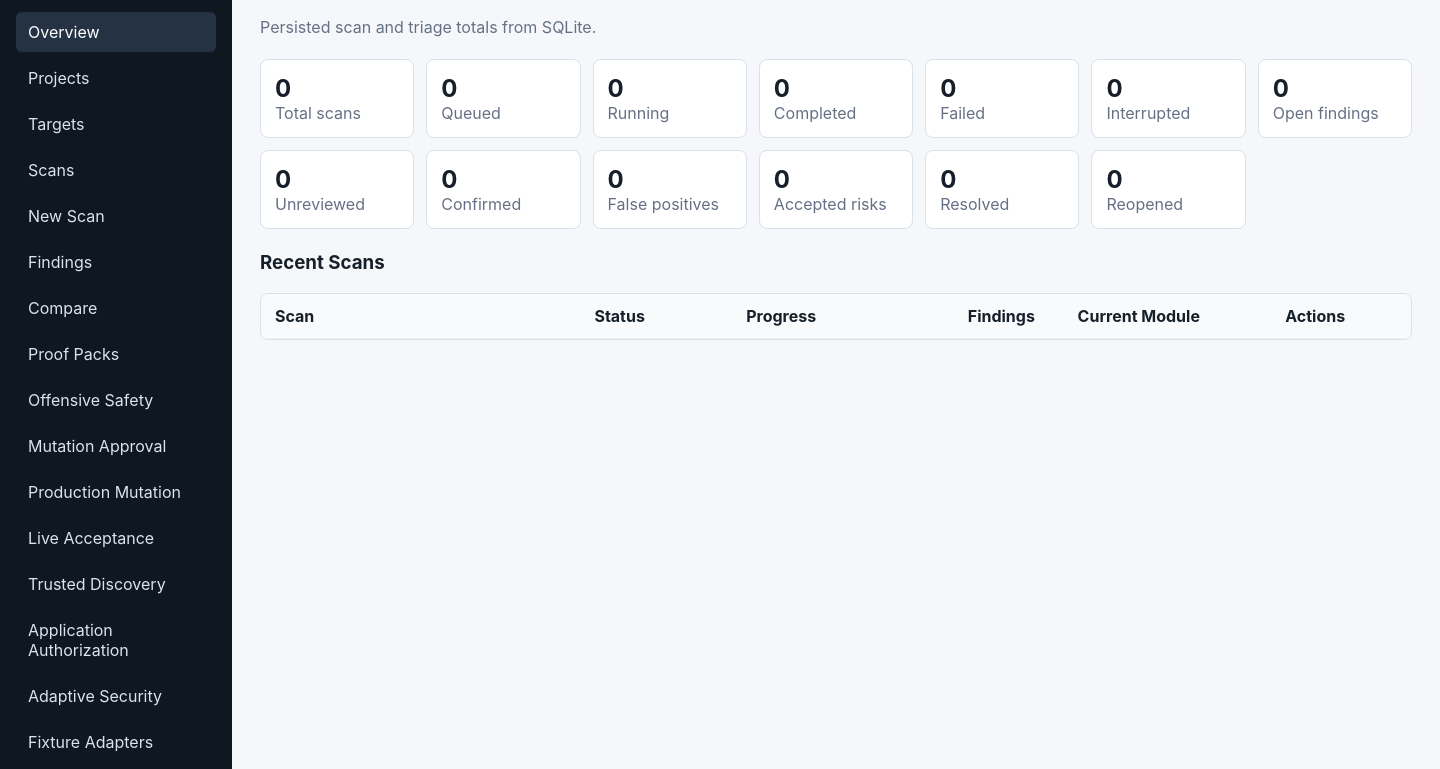
it: RouteCairn dashboard UI › renders a persistent emergency alert for unresolved controlled-mutation cleanup
This screenshot has width=1440, height=769.
(page scrolled)
Click the button "Offensive Safety": (116,400) [16, 380, 216, 420]
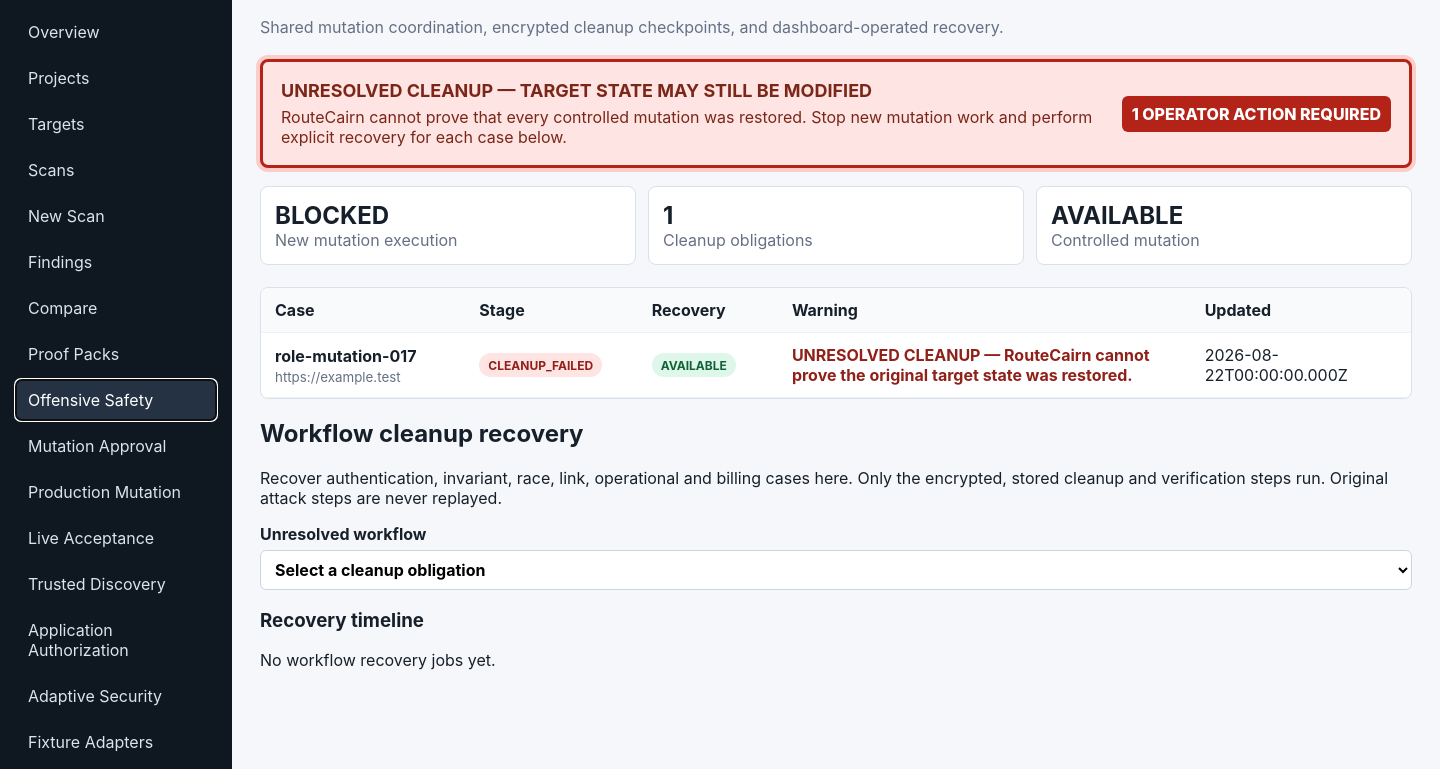
Result: the message shows "UNRESOLVED CLEANUP — TARGET STATE MAY STILL BE MODIFIED" at [281, 80, 872, 101]
Result: the text "role-mutation-017" is shown at [275, 346, 416, 366]
Result: the text "AVAILABLE" in the row of "BLOCKED" is shown at [1051, 201, 1183, 230]
